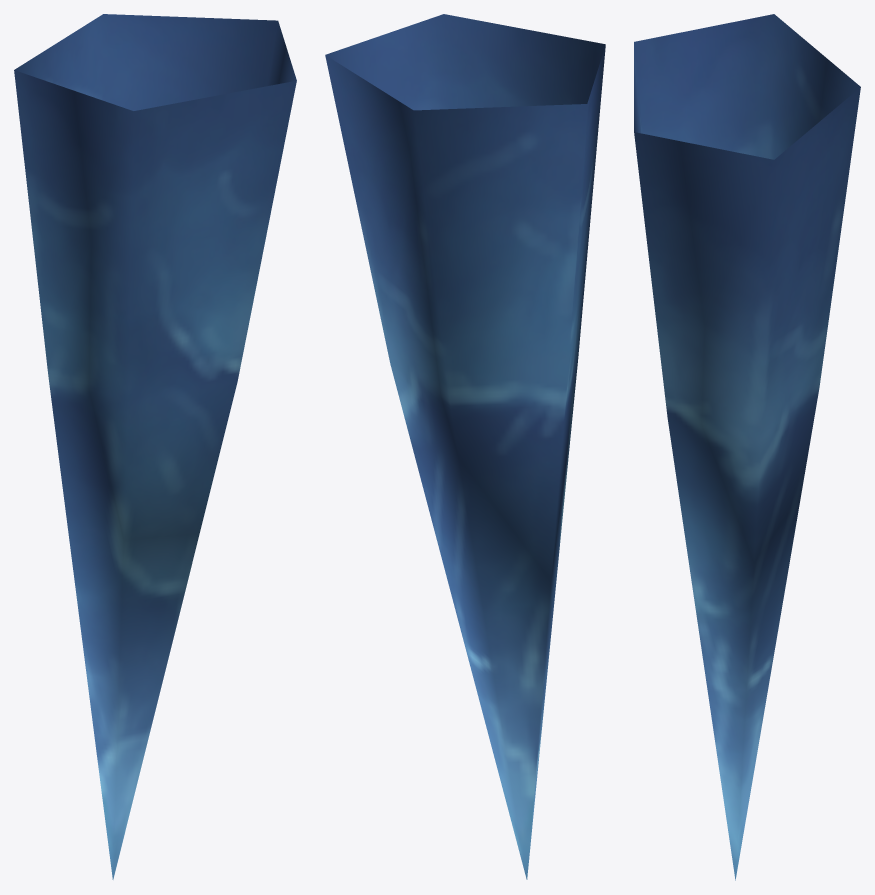
File: icicle.fbx
The picture shows the model from 3 angles, left to right: view 1: azimuth 30°, elevation 25°; view 2: azimuth 150°, elevation 25°; view 3: azimuth 270°, elevation 25°; orthographic projection. The views are drawn at different scales.
Parts seen in each view (by area): view 1: icicle; view 2: icicle; view 3: icicle.
Boxes of the visible parts, left/top/right/bottom form: icicle: left=14, top=14, right=296, bottom=879; icicle: left=325, top=14, right=605, bottom=879; icicle: left=634, top=14, right=860, bottom=880.
Bounding box in the file's own units: 0.3772 × 1.11 × 0.2769.
